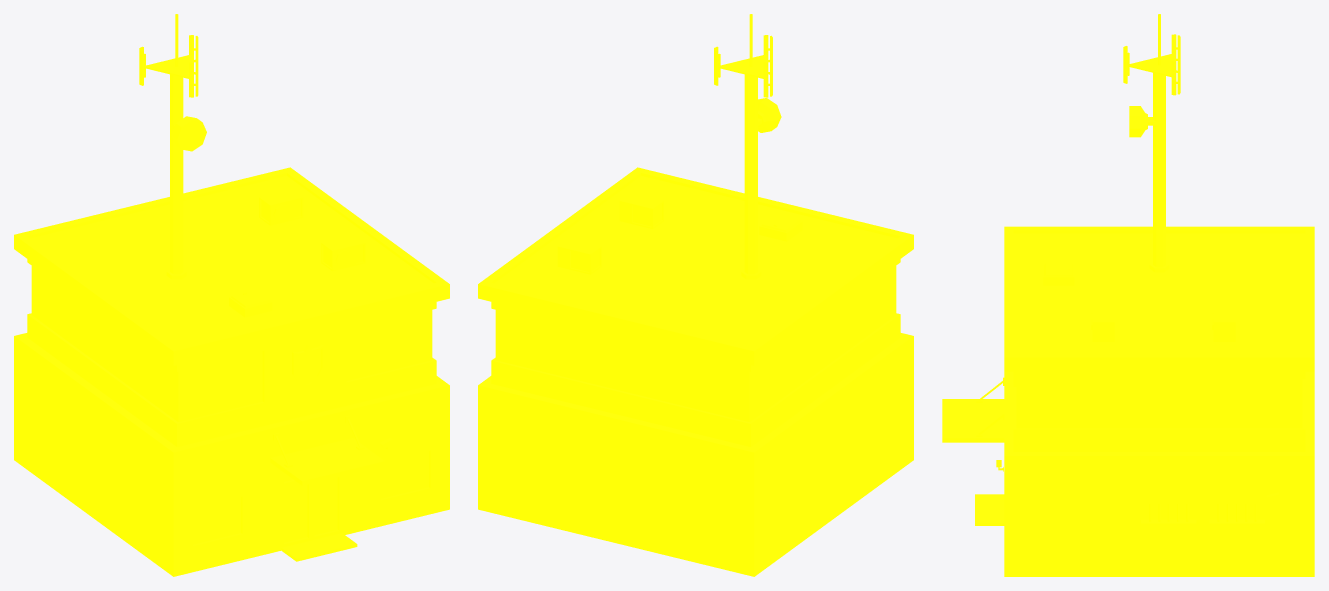
File: building-policestation.glb
3 views of the same model, side by side, from view 1: azimuth 30°, elevation 25°; view 2: azimuth 150°, elevation 25°; view 3: azimuth 270°, elevation 25° (orthographic). The views are drawn at different scales.
Parts seen in each view (by area): view 1: building-policestation; view 2: building-policestation; view 3: building-policestation.
Boxes of the visible parts, bbox=[...] form: building-policestation: bbox=[14, 14, 449, 576]; building-policestation: bbox=[478, 14, 913, 576]; building-policestation: bbox=[942, 14, 1314, 576].
Bounding box in the file's own units: 10.25 × 16.74 × 12.
Materials: 1 (1 with a texture image).
